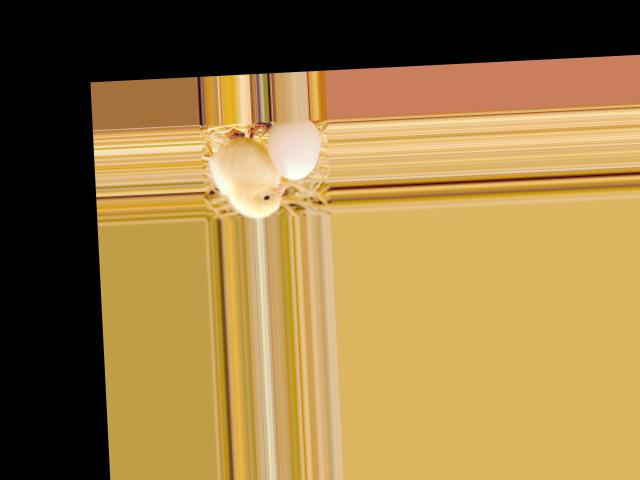egg: (265, 118, 321, 181)
